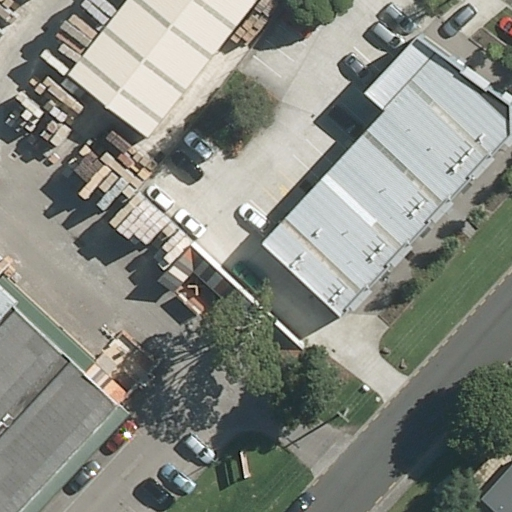DT: (337, 406, 354, 426)
